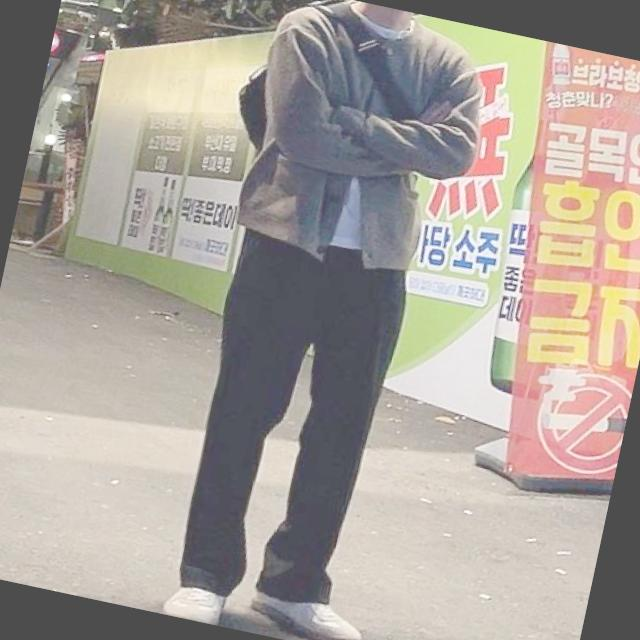cardigan: (228, 0, 500, 288)
slacks: (165, 213, 417, 620)
